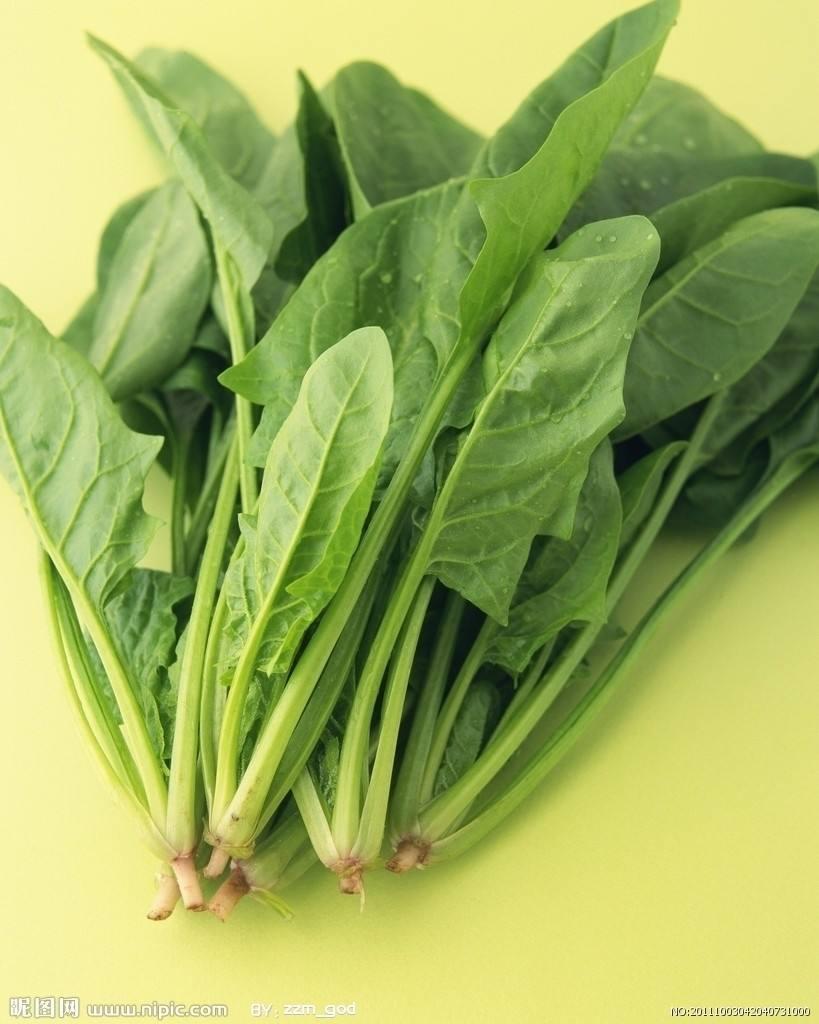bocai: (2, 294, 206, 892), (445, 167, 772, 508), (220, 291, 392, 907)
